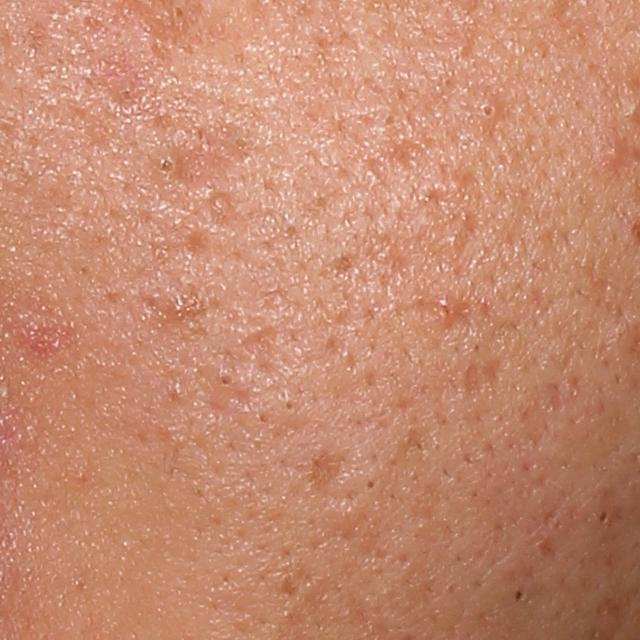atrophic_scar: (243, 324, 296, 377), (309, 453, 355, 495), (185, 226, 216, 261), (463, 362, 489, 399)
comedo: (151, 143, 182, 179), (475, 96, 501, 124), (211, 369, 237, 394), (279, 395, 298, 416), (362, 473, 379, 495), (173, 2, 189, 21), (510, 588, 525, 605), (597, 510, 609, 524)
